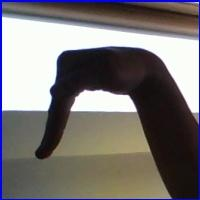A: (37, 44, 175, 171)
